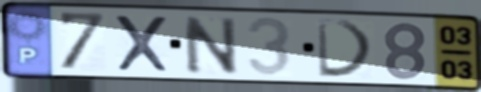3: (245, 15, 298, 79)
7: (56, 10, 109, 73)
8: (381, 20, 429, 82)
D: (314, 17, 378, 80)
N: (180, 13, 241, 76)
X: (111, 12, 174, 75)
